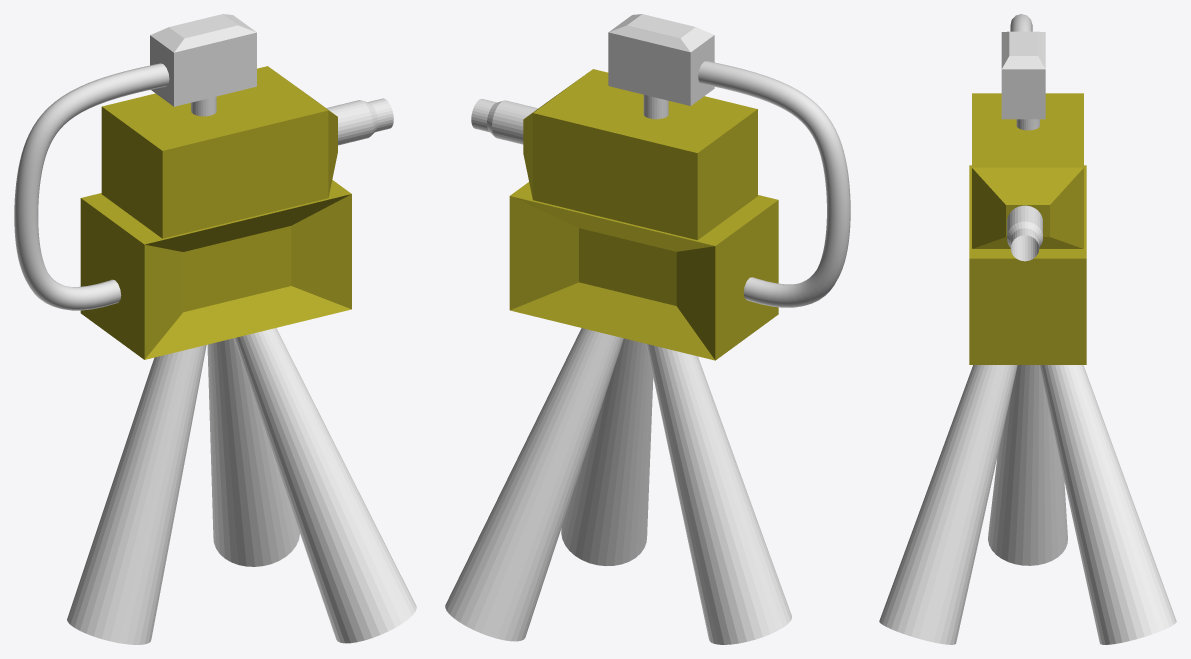
Rendered from pitcher.glb.
The picture shows the model from 3 angles, left to right: view 1: azimuth 30°, elevation 25°; view 2: azimuth 150°, elevation 25°; view 3: azimuth 270°, elevation 25°; orthographic projection. The views are drawn at different scales.
Visible parts, largest first — view 1: Cube, Cube.001, Circle.001, Circle, Circle.002, NurbsPath, Cube.002, Circle.004; view 2: Cube, Cube.001, Circle.002, Circle, Circle.001, NurbsPath, Cube.002, Circle.004; view 3: Circle.002, Circle.001, Cube.001, Cube, Circle, Cube.002, Circle.004.
Boxes of the visible parts, x1,y1,x2,y2 form: Cube: (80, 180, 351, 359); Cube.001: (101, 66, 337, 238); Circle.001: (233, 328, 416, 643); Circle: (67, 345, 206, 644); Circle.002: (207, 338, 299, 566); NurbsPath: (14, 63, 169, 310); Cube.002: (150, 14, 256, 106); Circle.004: (326, 98, 393, 145); Cube: (509, 182, 778, 360); Cube.001: (523, 69, 757, 240); Circle.002: (445, 328, 623, 641); Circle: (646, 344, 791, 644); Circle.001: (561, 338, 653, 565); NurbsPath: (698, 61, 850, 307); Cube.002: (608, 14, 714, 105); Circle.004: (471, 99, 537, 144); Circle.002: (1039, 365, 1176, 644); Circle.001: (879, 365, 1017, 644); Cube.001: (972, 93, 1083, 248); Cube: (969, 165, 1086, 364); Circle: (988, 365, 1067, 565); Cube.002: (1001, 31, 1045, 119); Circle.004: (1007, 205, 1042, 261).
Bounding box in the file's own units: 1.79 × 2.75 × 1.35.
